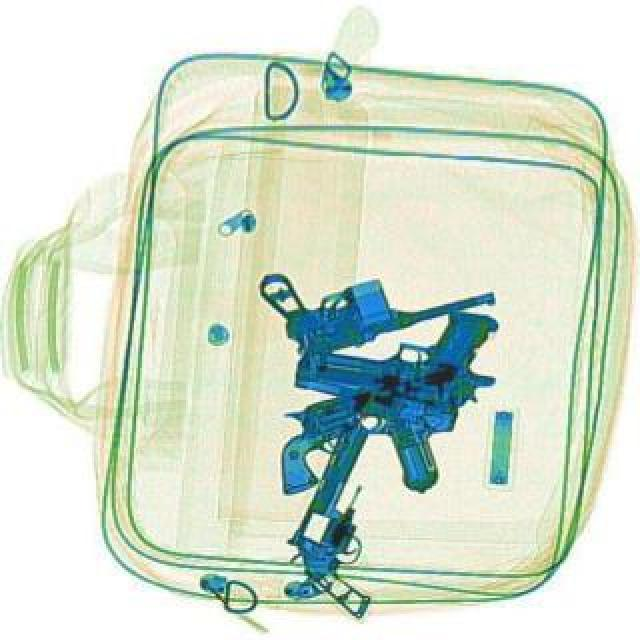gun: (252, 220, 498, 366), (264, 416, 432, 624), (288, 274, 510, 430), (260, 362, 490, 494), (268, 358, 460, 494)
